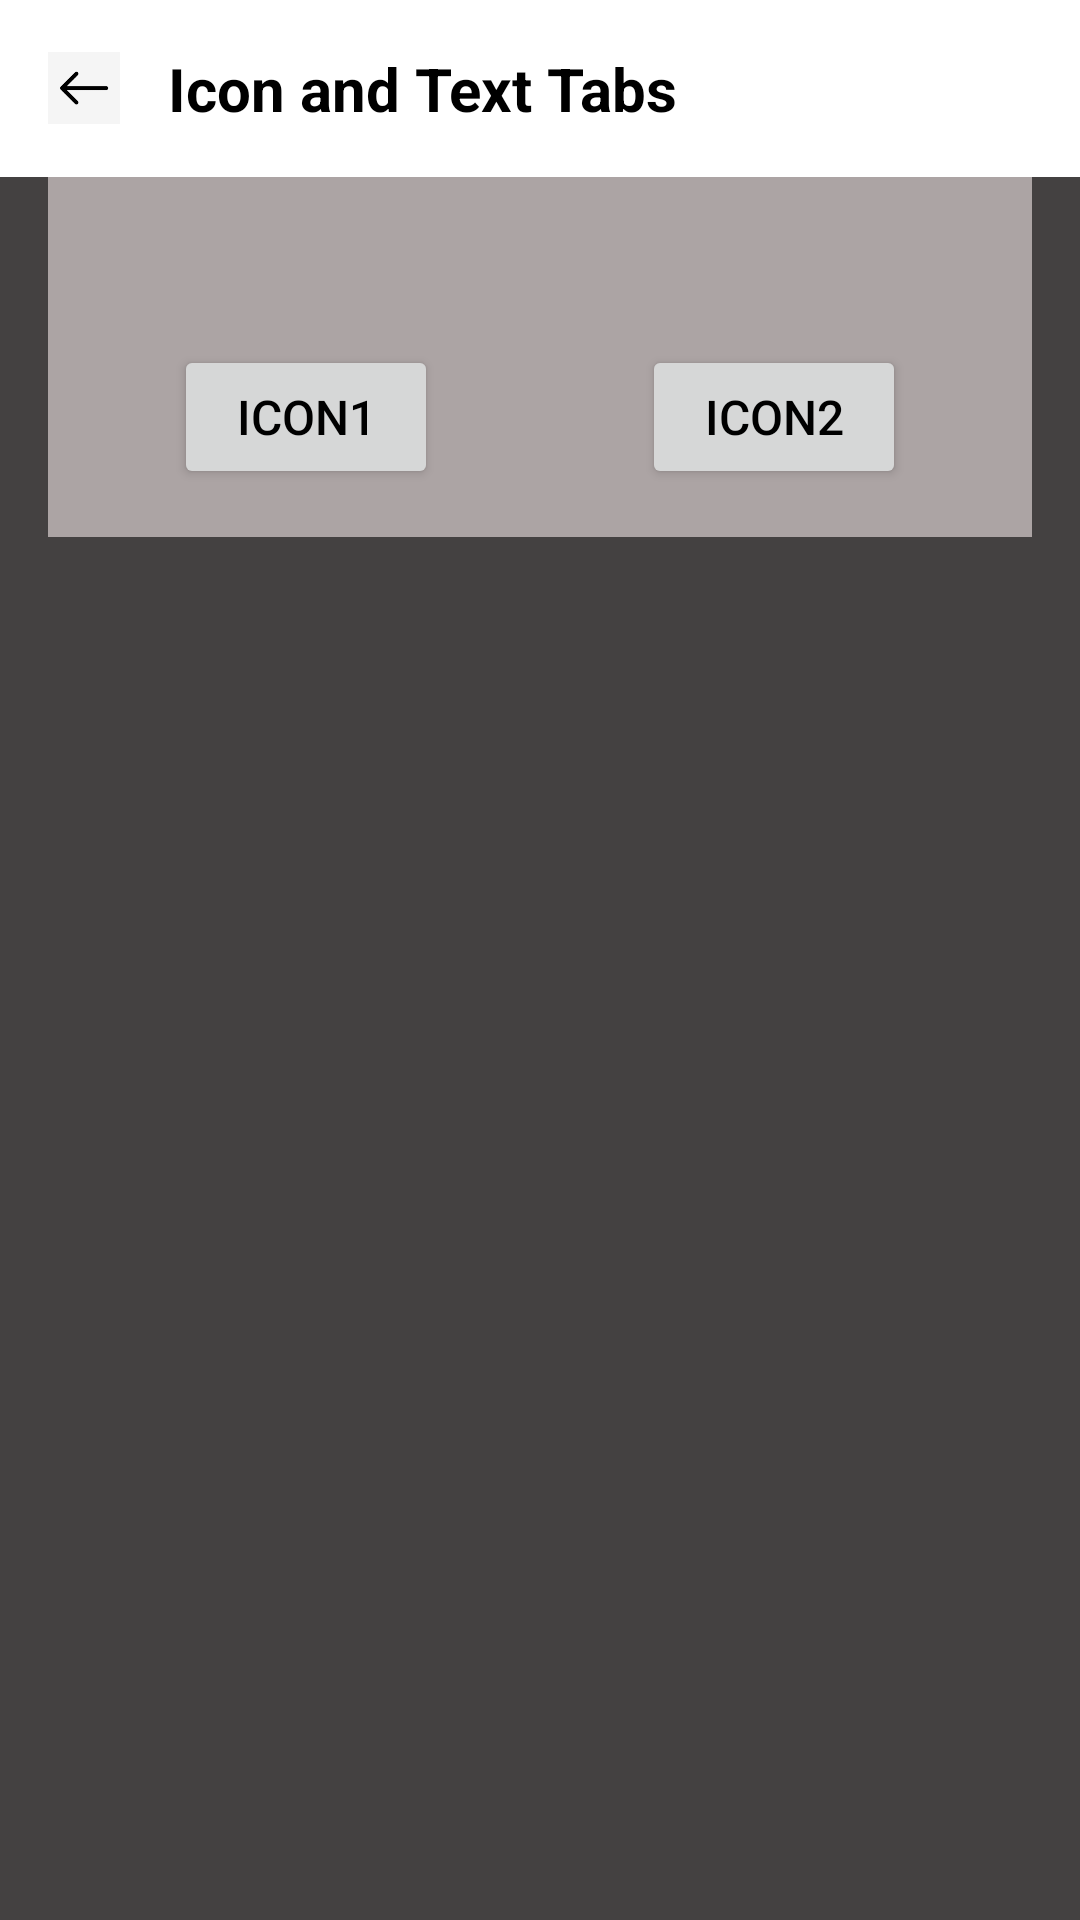

Where to tap for icons on this 1080×1920 app screen, as [x,y]:
back: [84,88]
